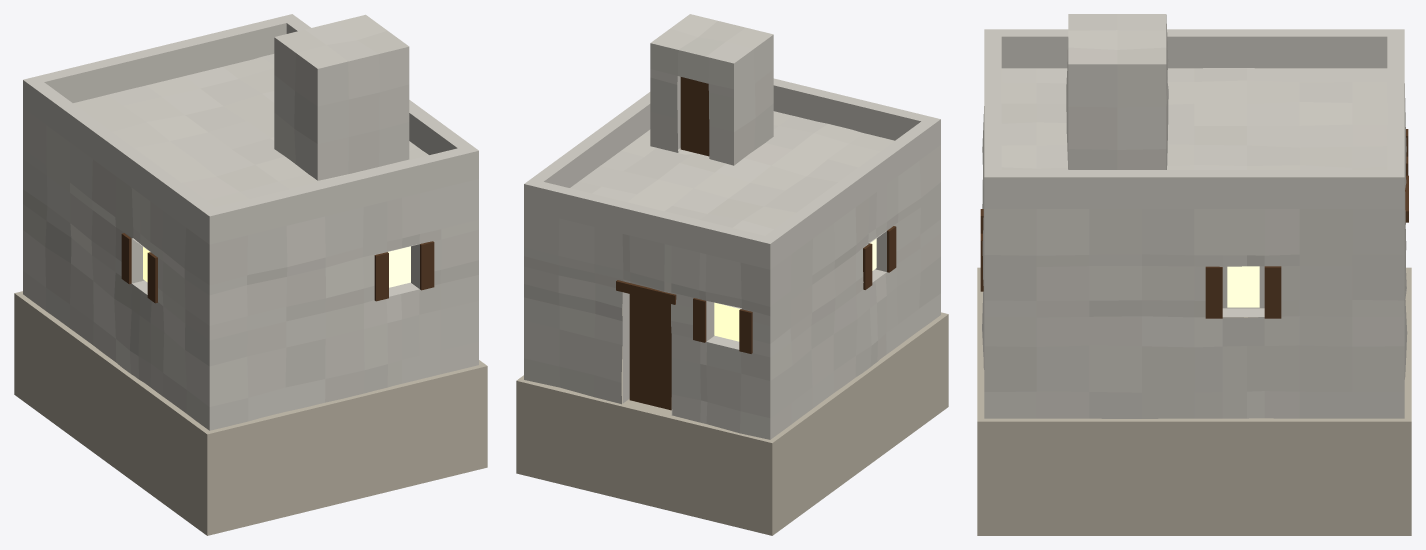
File: house_a.glb
3 views of the same model, side by side, from view 1: azimuth 30°, elevation 25°; view 2: azimuth 150°, elevation 25°; view 3: azimuth 270°, elevation 25° (orthographic). The views are drawn at different scales.
Parts seen in each view (by area): view 1: house_a, house_a_windows; view 2: house_a, house_a_windows; view 3: house_a, house_a_windows.
Boxes of the visible parts, bbox=[...] form: house_a: bbox=[14, 14, 487, 535]; house_a_windows: bbox=[143, 246, 410, 287]; house_a: bbox=[516, 14, 948, 535]; house_a_windows: bbox=[714, 238, 876, 341]; house_a: bbox=[977, 14, 1411, 535]; house_a_windows: bbox=[1227, 266, 1259, 307].
Size of the model in its own units: 5.2 by 7.11 by 6.2.
